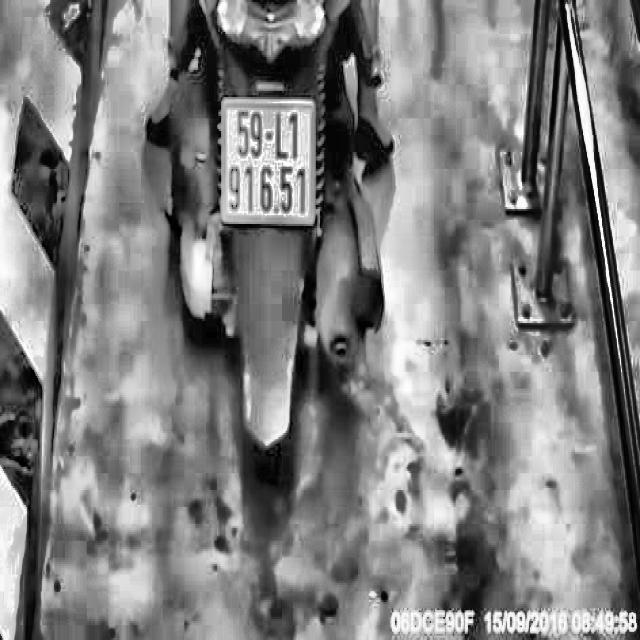plate: (219, 92, 318, 231)
